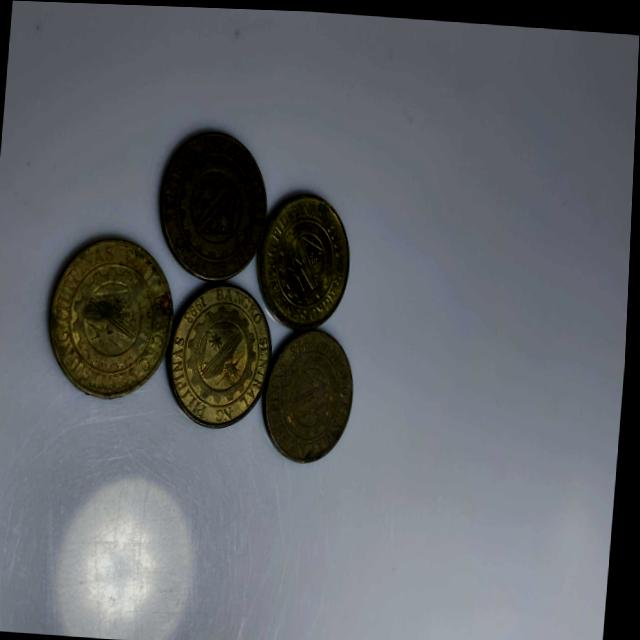25Cent_Old_Back: (53, 235, 175, 401), (168, 278, 277, 434), (162, 125, 271, 274), (263, 192, 357, 329), (269, 331, 357, 464)
